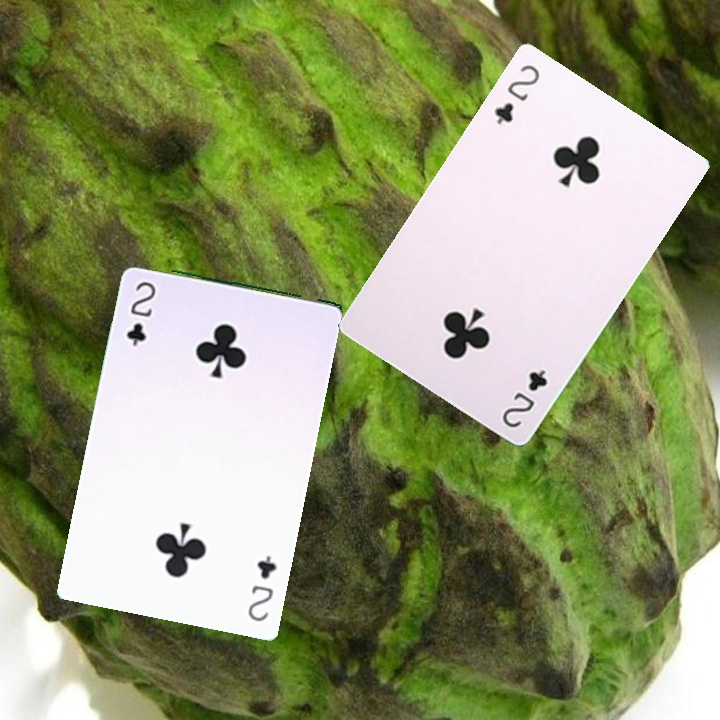2c: (490, 60, 543, 127), (498, 365, 550, 431), (243, 551, 279, 624), (123, 277, 159, 349)
